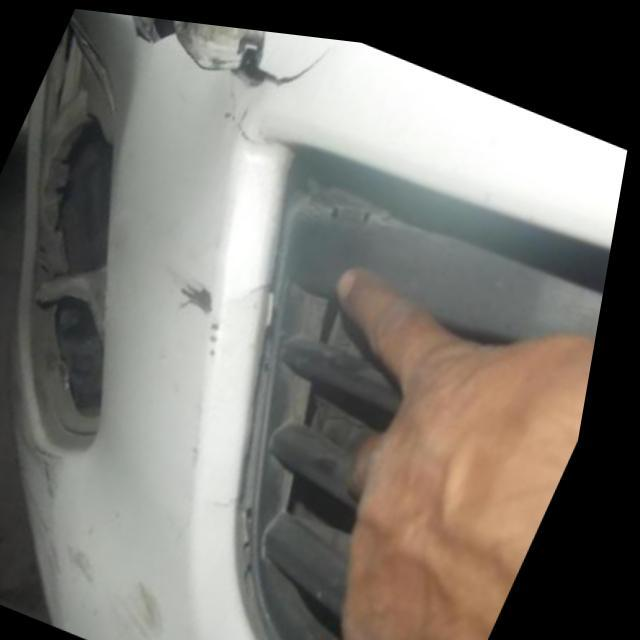crack: (131, 13, 335, 81), (182, 267, 231, 318)
dent: (129, 573, 187, 640)
scratch: (23, 338, 82, 522), (37, 473, 84, 583), (82, 534, 118, 586)
